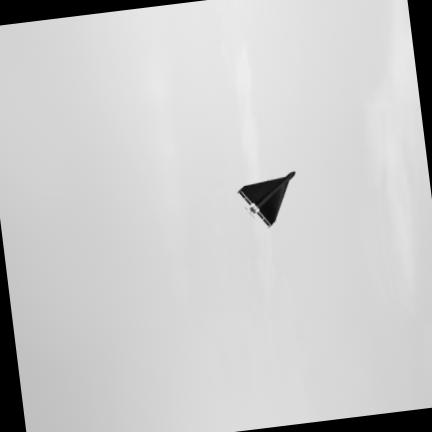Shahed: (237, 171, 294, 227)
